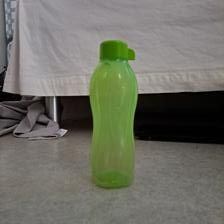bottle: (86, 38, 140, 190)
